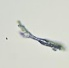microplastic: (17, 20, 66, 52), (6, 38, 8, 41)
